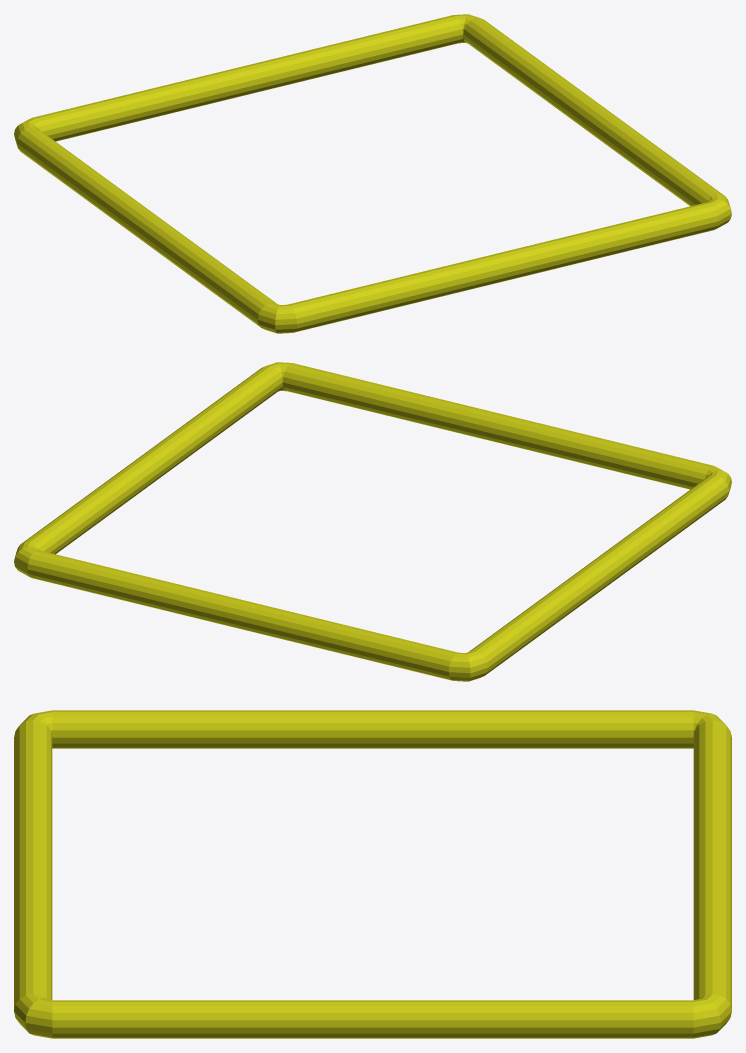
File: pipe__gate_5meter.obj
The picture shows the model from 3 angles, top to bottom: view 1: azimuth 30°, elevation 25°; view 2: azimuth 150°, elevation 25°; view 3: azimuth 270°, elevation 25°; orthographic projection. The views are drawn at different scales.
Size of the model in its own units: 56.5 by 3 by 56.
